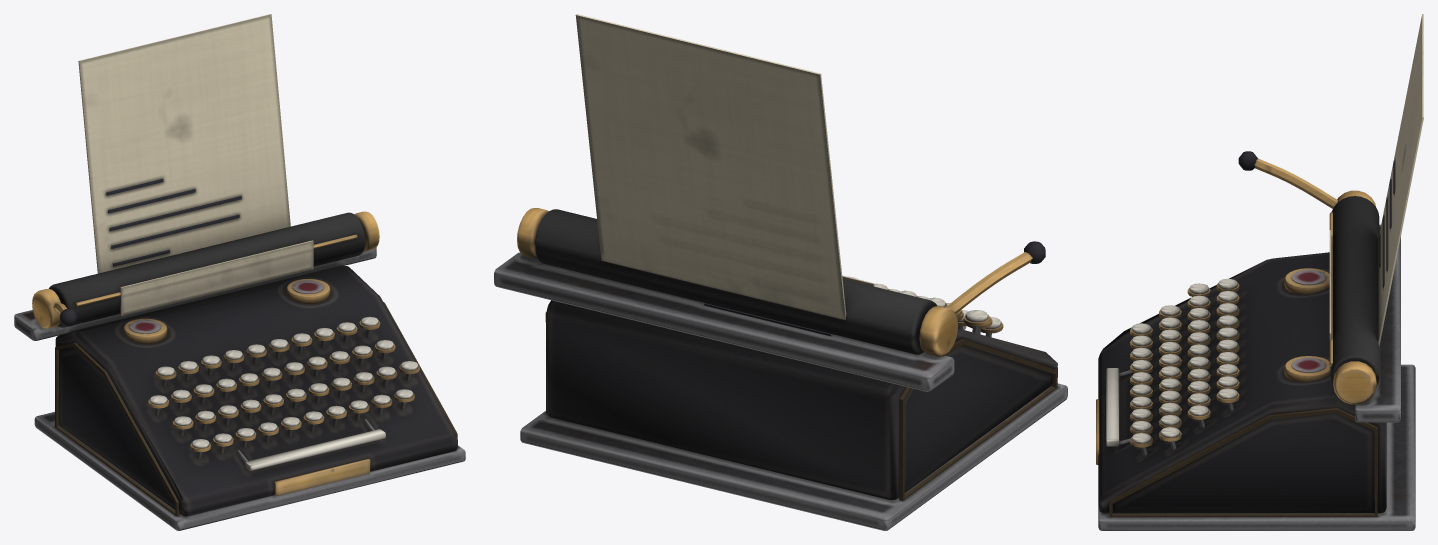
The model's file is Typewriter.fbx.
3 views of the same model, side by side, from view 1: azimuth 30°, elevation 25°; view 2: azimuth 150°, elevation 25°; view 3: azimuth 270°, elevation 25° (orthographic). The views are drawn at different scales.
Parts seen in each view (by area): view 1: Typewriter; view 2: Typewriter; view 3: Typewriter.
Part boxes in pixels (x1=…): Typewriter: x1=14, y1=14, x2=465, y2=530; Typewriter: x1=494, y1=14, x2=1067, y2=530; Typewriter: x1=1096, y1=14, x2=1423, y2=530.
Bounding box in the file's own units: 161 × 149 × 114.
